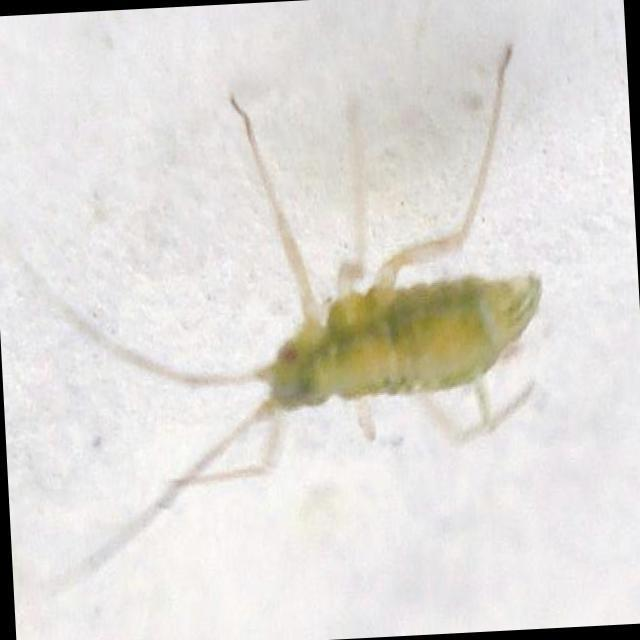aphid: (46, 33, 578, 584)
